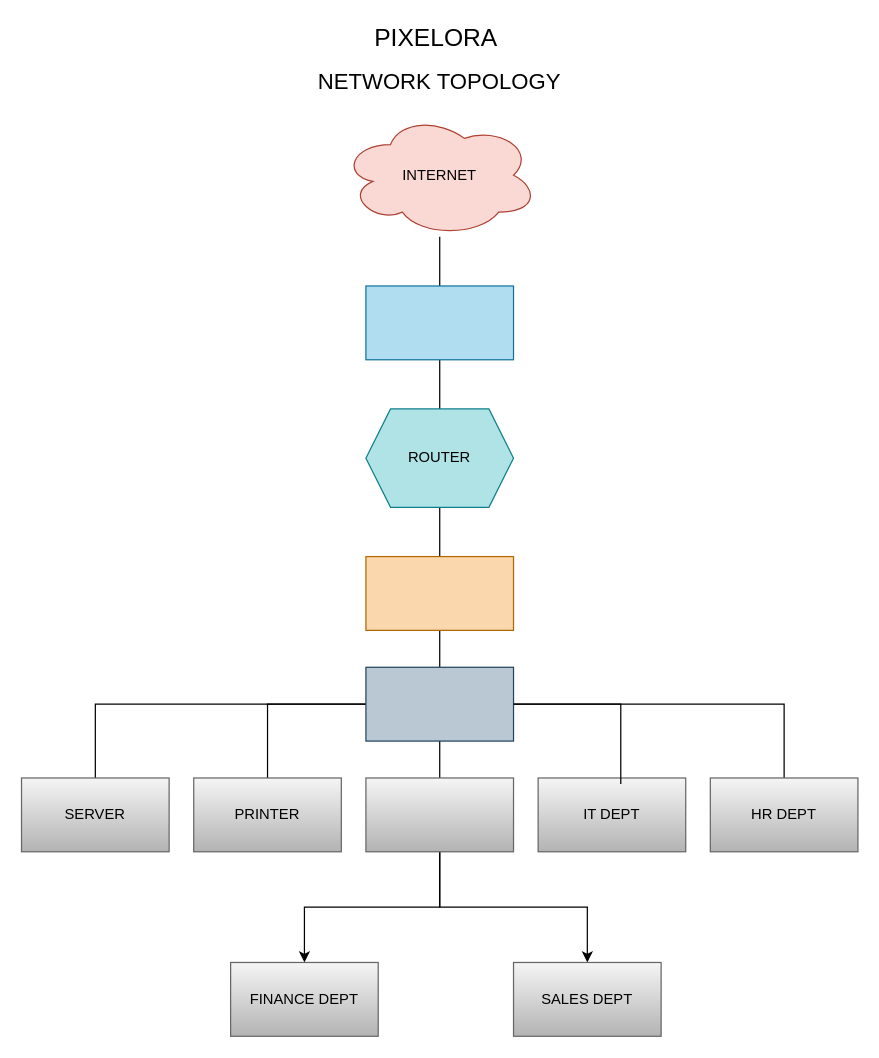
Image size: 879x1058. Some labels were removed from this diagram. The box of each missing label's shape, as (x1, y1, x2, y2) in pixels:
FIREWALL: (365, 555, 514, 630)
ISP MODEM: (365, 285, 514, 360)
SWITCH: (365, 666, 514, 741)
WIRELESS ACCESS POINT: (365, 777, 514, 852)
